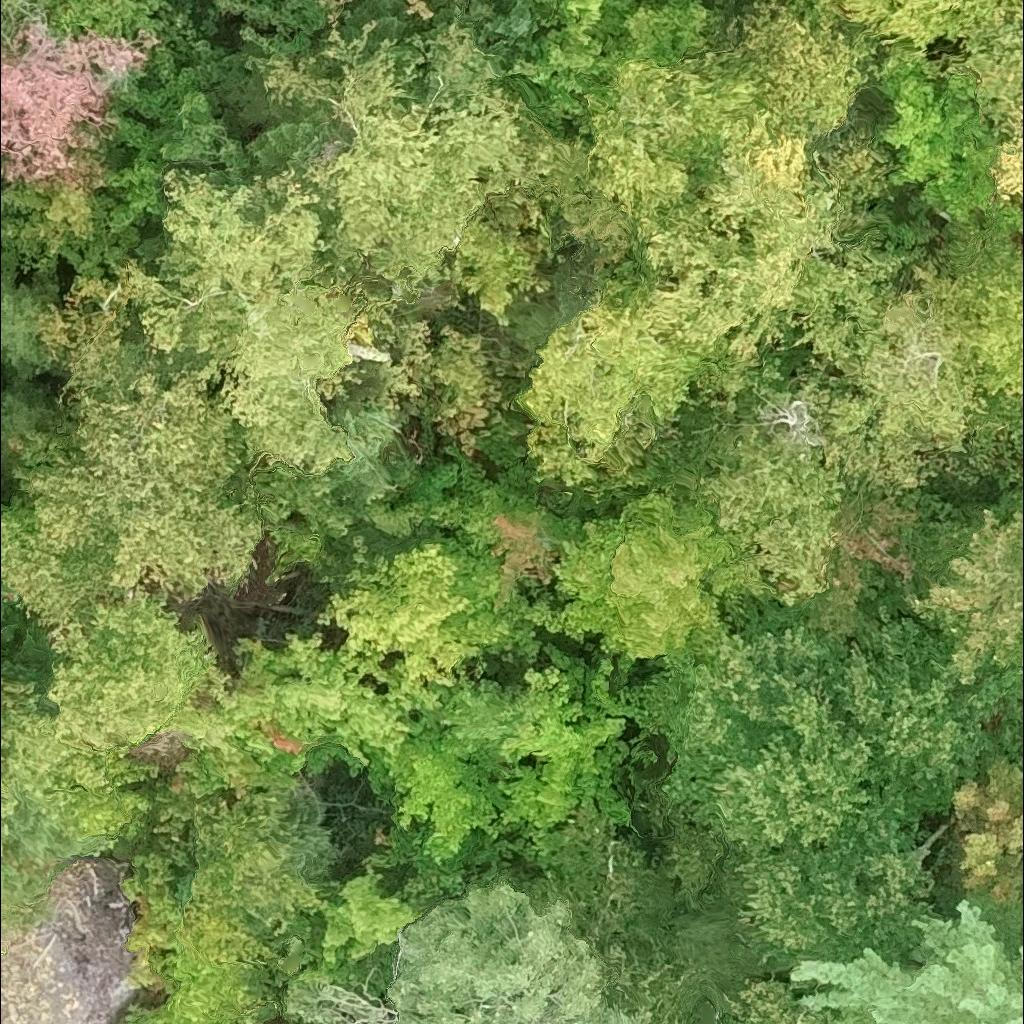crown: (560, 1, 887, 363), (114, 163, 428, 483), (0, 277, 265, 628), (259, 7, 558, 309), (514, 259, 762, 504), (638, 628, 885, 862), (787, 213, 993, 460), (700, 380, 921, 604), (178, 628, 437, 803), (528, 493, 773, 675), (441, 648, 649, 857), (837, 610, 1023, 827), (388, 883, 655, 1023), (365, 666, 521, 897), (320, 531, 542, 685), (733, 808, 942, 967), (46, 584, 232, 758), (411, 447, 596, 604), (0, 676, 162, 855), (795, 903, 1023, 1023), (0, 17, 158, 183), (175, 791, 319, 966), (0, 148, 174, 284), (509, 0, 711, 115), (905, 506, 1023, 687), (759, 0, 1023, 73), (0, 791, 116, 919), (960, 251, 1023, 478), (951, 763, 1023, 960), (953, 18, 1023, 203), (120, 946, 269, 1023), (428, 323, 504, 466), (320, 868, 419, 964), (463, 0, 560, 77), (120, 855, 185, 953), (734, 981, 846, 1023), (992, 465, 1023, 514), (320, 0, 351, 23), (404, 0, 431, 18), (1010, 634, 1023, 671), (0, 0, 11, 12), (1022, 928, 1023, 934)
